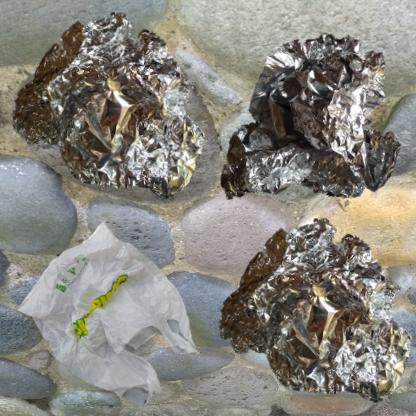aluminio: (213, 10, 416, 256), (213, 213, 416, 412), (10, 10, 206, 201)
bolsa: (10, 213, 205, 416)
